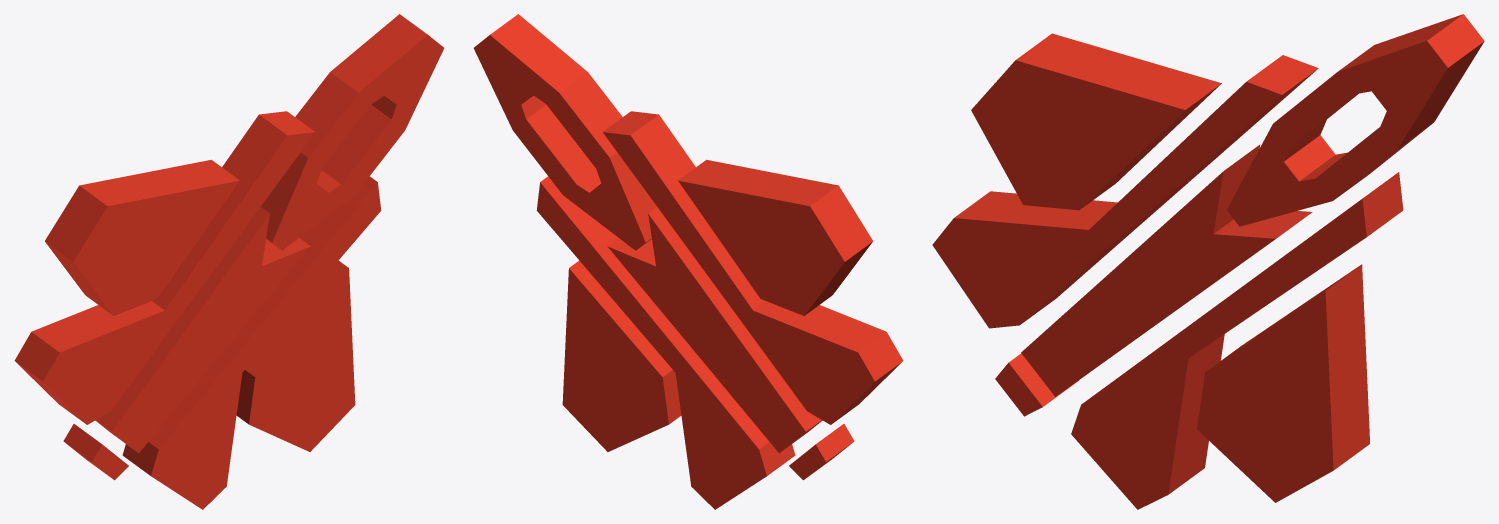
File: Icon_Plane_03.fbx
3 renders of one model, left to right at view 1: azimuth 30°, elevation 25°; view 2: azimuth 150°, elevation 25°; view 3: azimuth 330°, elevation 25°, orthographic. The views are drawn at different scales.
Parts seen in each view (by area): view 1: Icon_Plane_03; view 2: Icon_Plane_03; view 3: Icon_Plane_03.
Boxes of the visible parts, x1,y1,x2,y2 form: Icon_Plane_03: [14, 14, 444, 509]; Icon_Plane_03: [473, 14, 903, 509]; Icon_Plane_03: [932, 14, 1484, 509].
Bounding box in the file's own units: 71.95 × 71.95 × 8.85.
